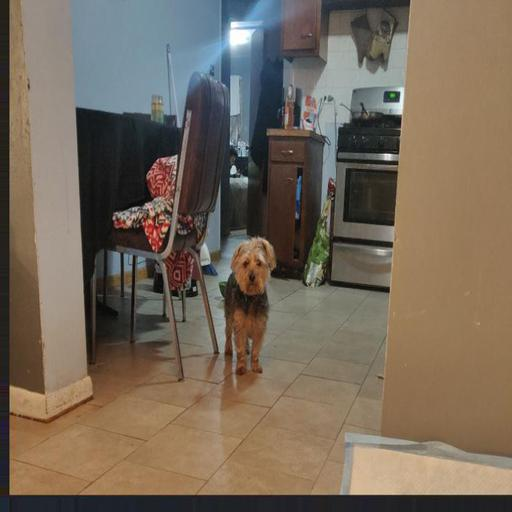dog: (198, 226, 310, 338)
